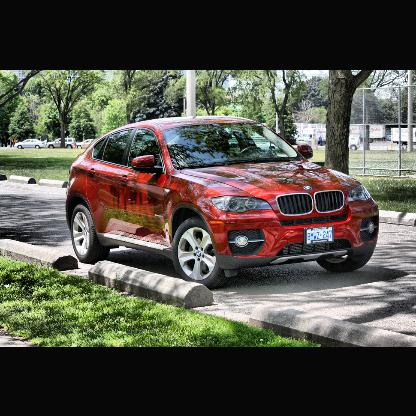BMW X6 SUV 2012: (65, 113, 383, 287)
